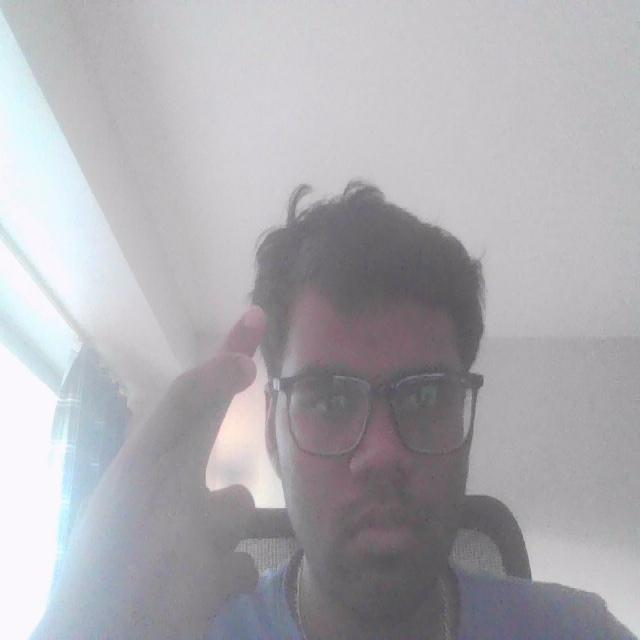No: (59, 295, 278, 640)
